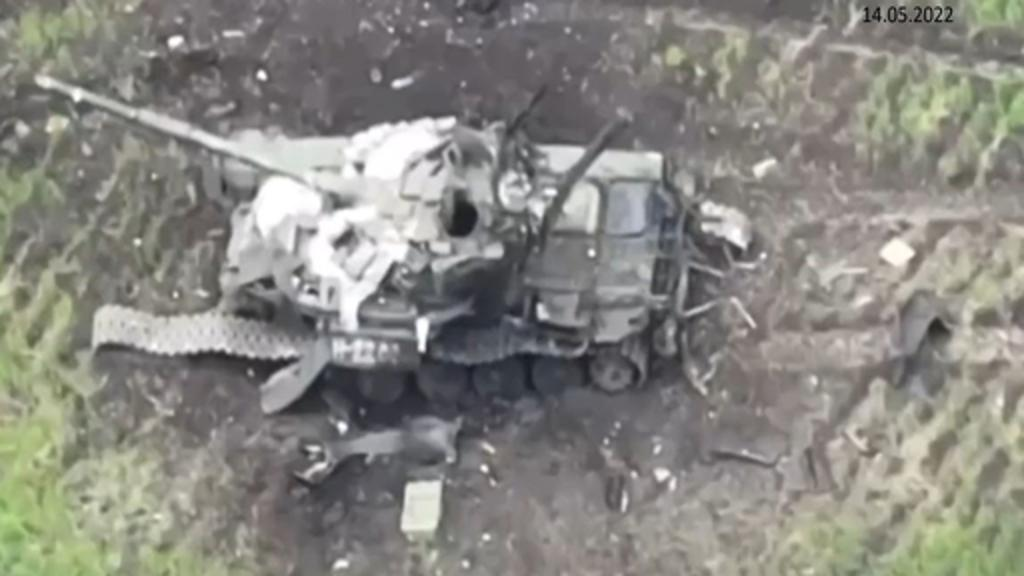TANK: (18, 46, 724, 430)
